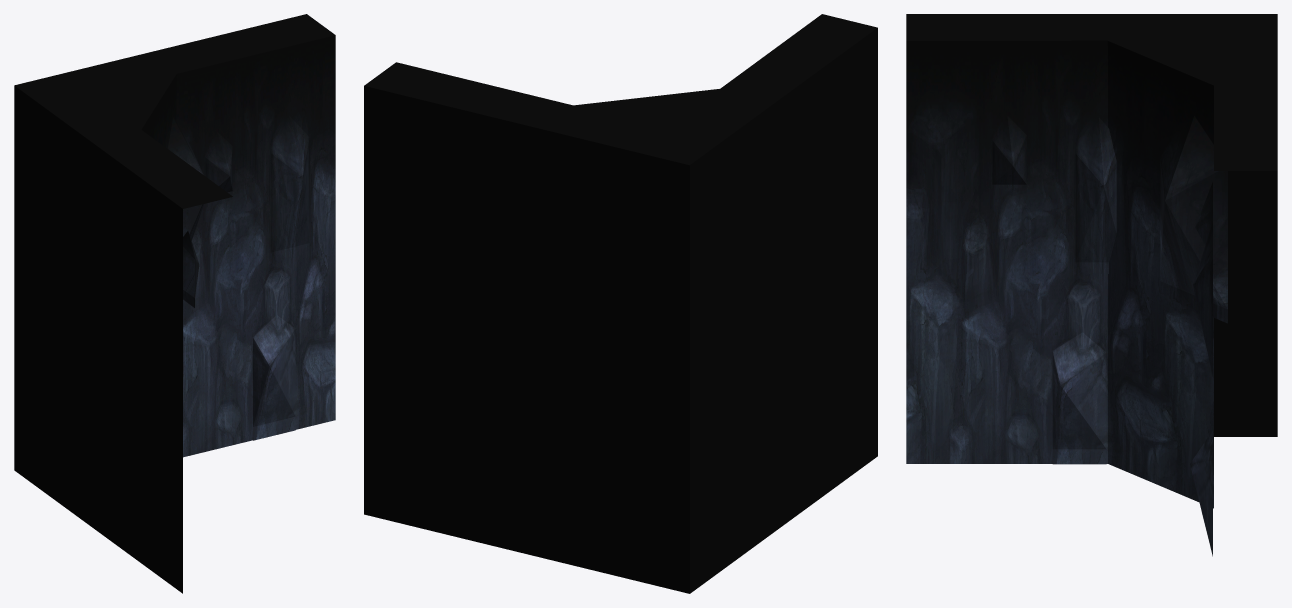
File: mine_fade_concave_01.fbx
The picture shows the model from 3 angles, left to right: view 1: azimuth 30°, elevation 25°; view 2: azimuth 150°, elevation 25°; view 3: azimuth 270°, elevation 25°; orthographic projection. The views are drawn at different scales.
Visible parts, largest first — view 1: obj1.023; view 2: obj1.023; view 3: obj1.023.
Boxes of the visible parts, bbox=[...] form: obj1.023: bbox=[14, 14, 335, 593]; obj1.023: bbox=[364, 14, 877, 593]; obj1.023: bbox=[906, 14, 1277, 556].
Size of the model in its own units: 4.38 by 5.5 by 4.38.
